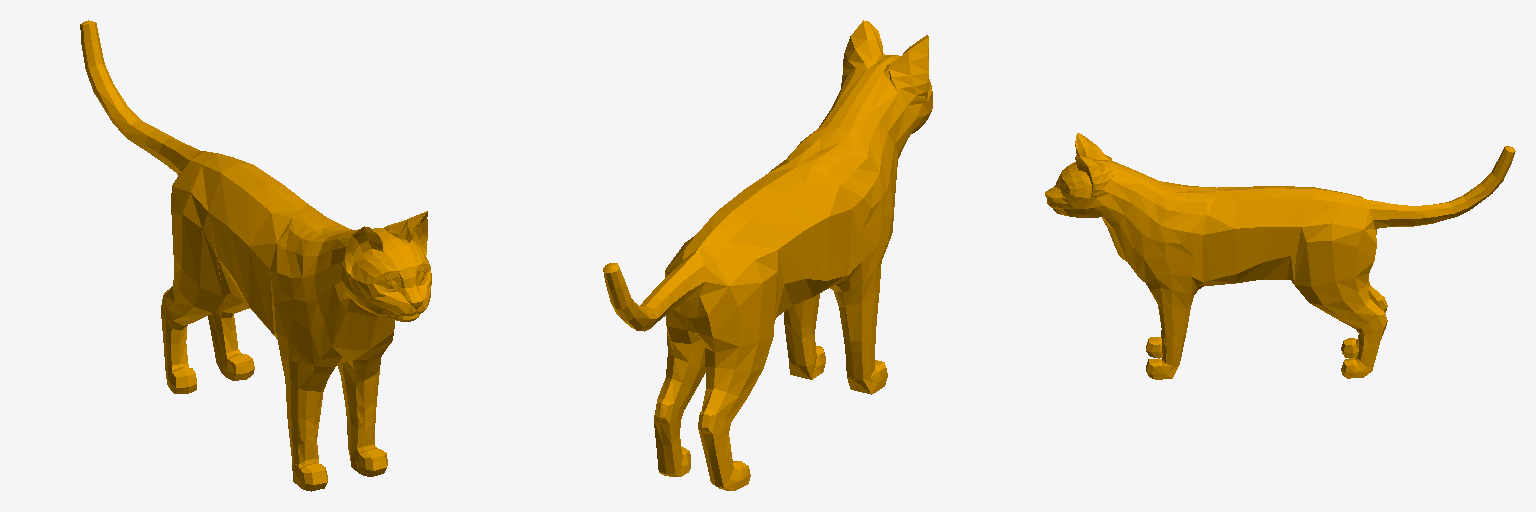
URDF robot description (none):
<robot name="none">
       <link name="none">
           <visual>
               <origin rpy="1.57 0 0" xyz="0 0 0" />
               <geometry>
                   <mesh filename="siameseCat.obj" />
               </geometry>
           </visual>
          <collision>
              <geometry>
                  <box size="0.163183 0.517559 1.000000" />
              </geometry>
          </collision>

          <inertial>
            <mass value="0.0" />
            <inertia ixx="0.0" ixy="0.0" ixz="0.0" iyy="0.0" iyz="0.0" izz="0.0" />
          </inertial>
      </link>
  </robot>

--- Render facts (derived) ---
The picture shows the robot from 3 angles, left to right: view 1: azimuth 30°, elevation 25°; view 2: azimuth 150°, elevation 25°; view 3: azimuth 270°, elevation 25°; orthographic projection.
Model none with 1 links and 0 joints (none), rooted at none, posed every joint at zero.
Visible links, largest first — view 1: none; view 2: none; view 3: none.
Boxes of the visible links, bbox=[...] form: none: bbox=[80, 20, 431, 491]; none: bbox=[603, 20, 932, 490]; none: bbox=[1045, 133, 1515, 379].
Size in the robot's own frame: 0.1632 by 1 by 0.5177 metres.
Meshes: 1 distinct files referenced, 1 mesh visuals loaded (1 OBJ).